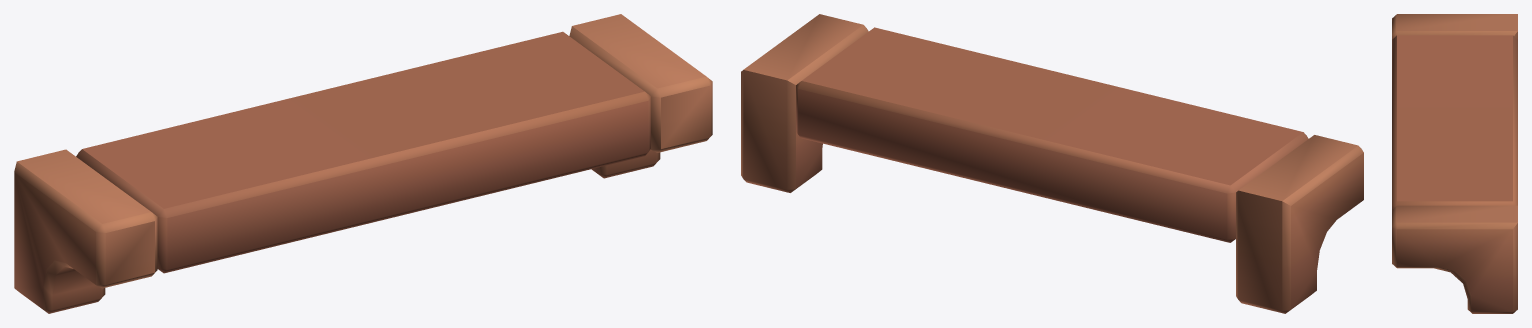
File: hylla.glb
The picture shows the model from 3 angles, left to right: view 1: azimuth 30°, elevation 25°; view 2: azimuth 150°, elevation 25°; view 3: azimuth 270°, elevation 25°; orthographic projection. The views are drawn at different scales.
Visible parts, largest first — view 1: shelf_A_big; view 2: shelf_A_big; view 3: shelf_A_big.
Boxes of the visible parts, left/top/right/bottom form: shelf_A_big: left=14, top=14, right=712, bottom=313; shelf_A_big: left=741, top=14, right=1363, bottom=313; shelf_A_big: left=1392, top=14, right=1517, bottom=313.
Size of the model in its own units: 2 by 0.3999 by 0.5001.
1 material, 1 textured.
